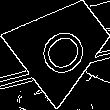O_NE: (30, 13, 94, 78)
